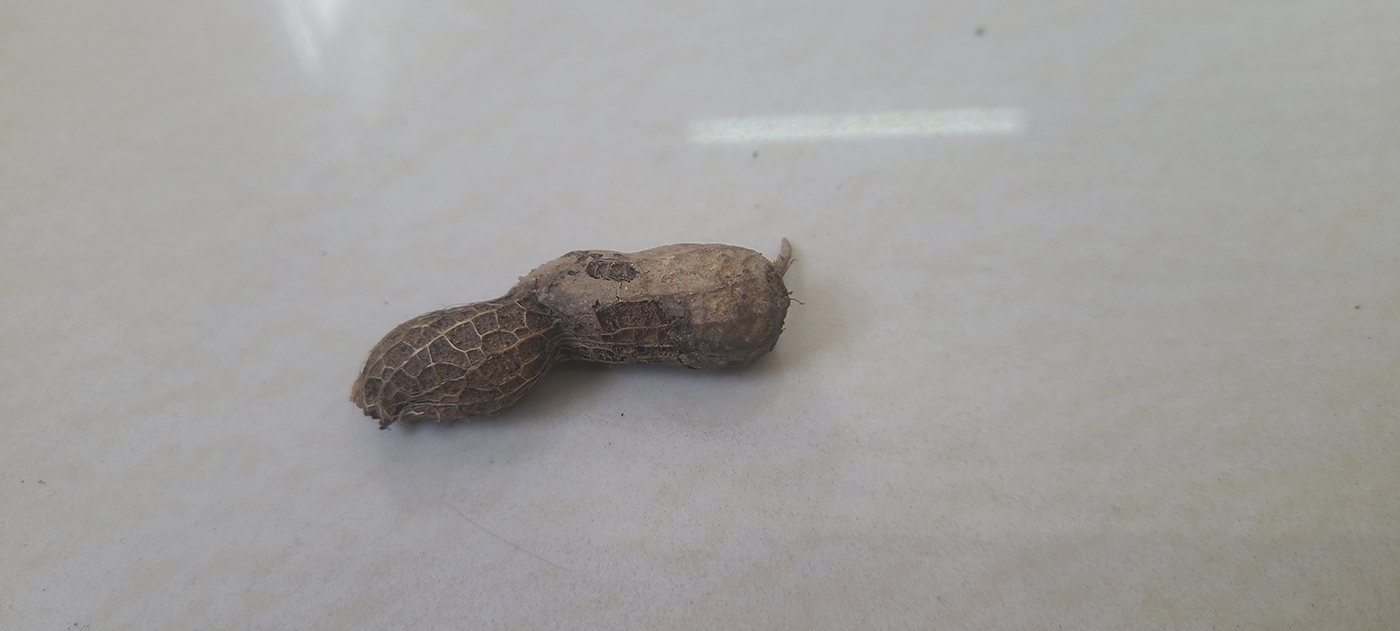l: (346, 241, 793, 435)
